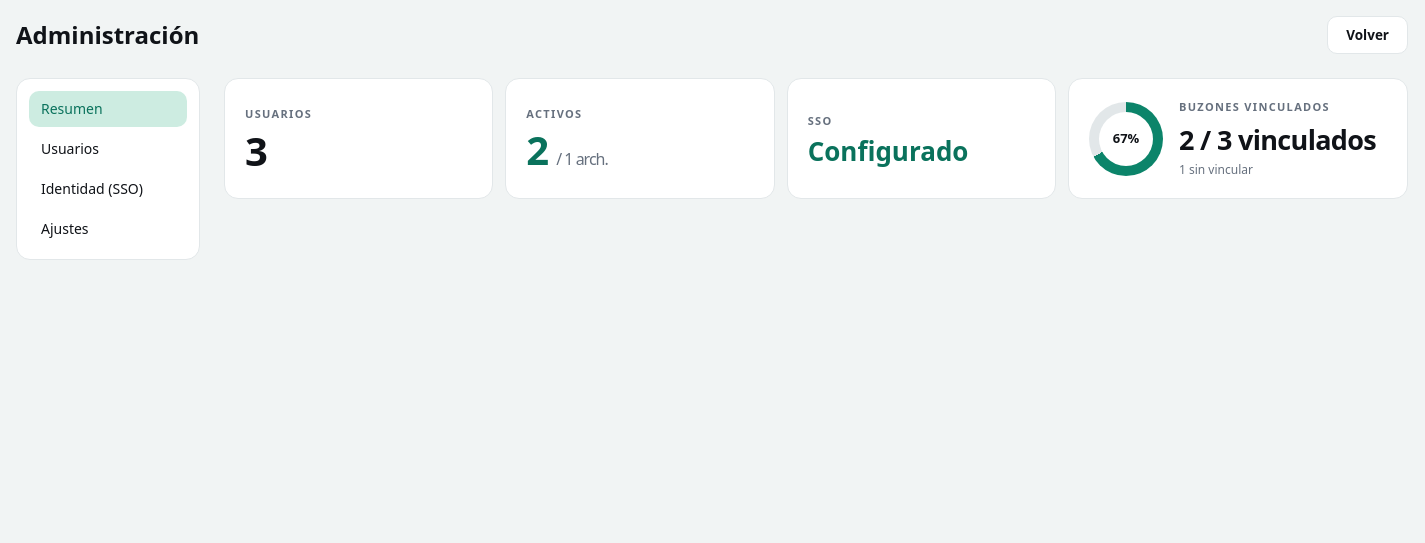
AdminPage console shell › switches to Identidad (SSO) and shows the existing SSO form
This screenshot has width=1425, height=543.
Expected: the text "3" is shown, [245,123,267,178]
Click the button "Identidad (SSO)": point(108, 189) [29,171,187,207]
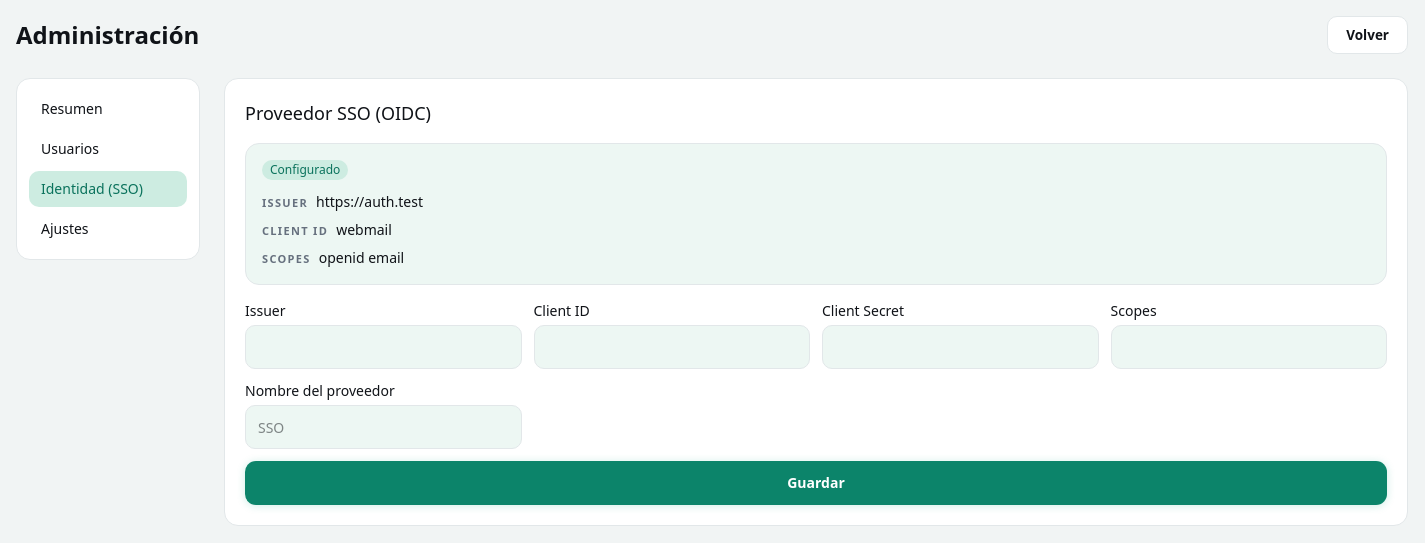
Expected: the field labelled "Issuer" is shown, [245,325,522,369]
Now the heading "Proveedor SSO (OIDC)" is shown, box [245,101,431,125]
